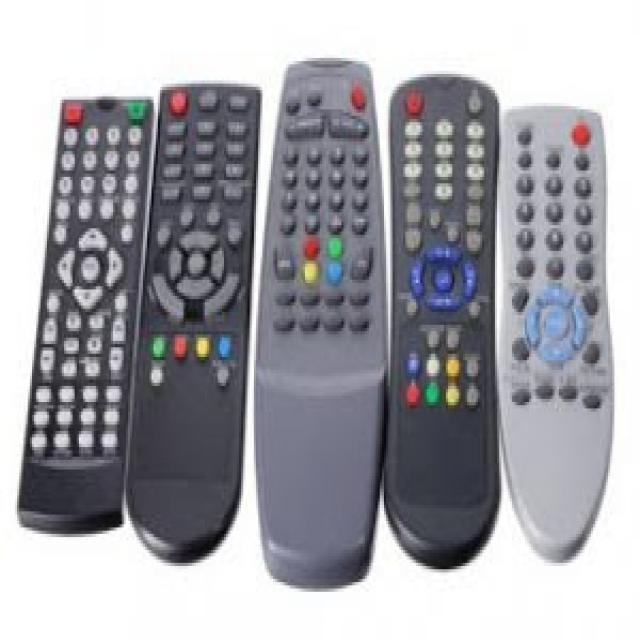remote: (256, 57, 389, 590), (126, 82, 262, 563), (17, 95, 154, 541), (385, 70, 498, 572), (494, 102, 617, 563)
